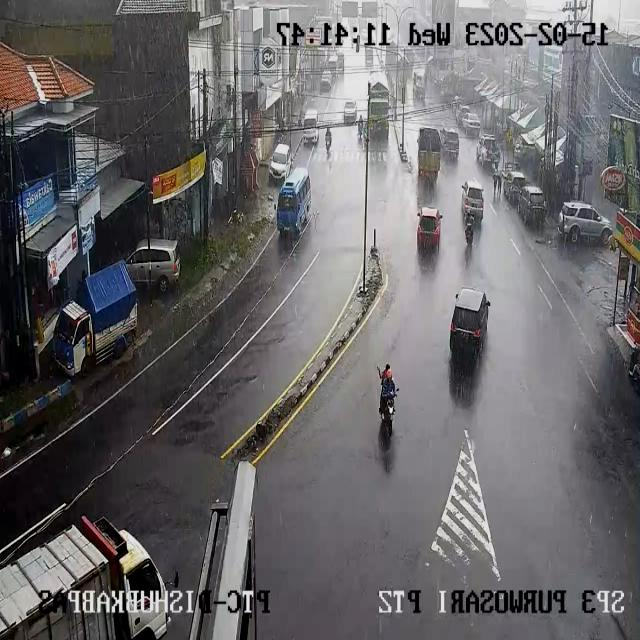Bus: (271, 166, 317, 239)
Car: (127, 238, 182, 294), (448, 290, 492, 356), (559, 201, 613, 246), (515, 186, 547, 226), (460, 178, 484, 224), (417, 207, 442, 251), (270, 142, 294, 181), (502, 170, 528, 203), (477, 135, 501, 168), (439, 128, 460, 161), (302, 110, 320, 142), (460, 110, 480, 133), (344, 101, 357, 123), (320, 72, 333, 93), (328, 52, 340, 74)
Motorbike: (376, 357, 396, 436), (322, 124, 334, 154), (464, 211, 474, 246), (357, 117, 363, 138)
Truck: (4, 509, 168, 639), (51, 267, 136, 378), (367, 75, 390, 147), (416, 126, 442, 184), (412, 69, 426, 100)
